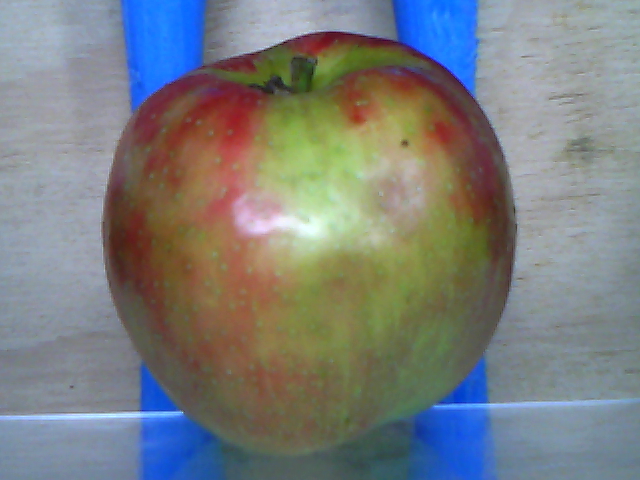stem: (286, 52, 316, 96)
